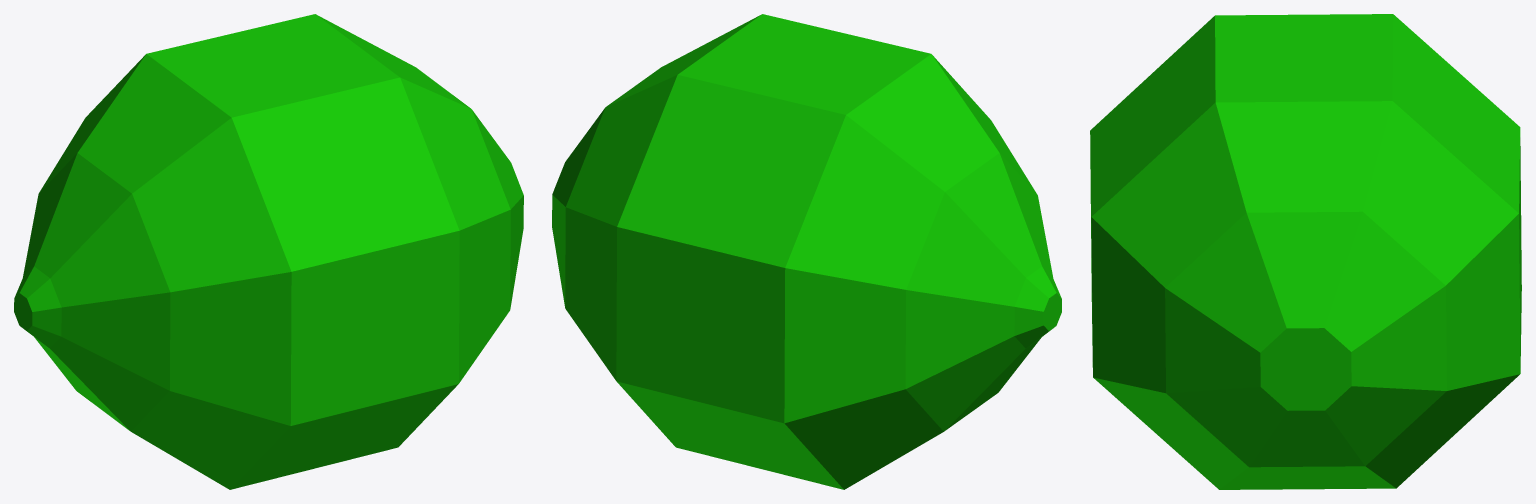
File: lime01.gltf
3 views of the same model, side by side, from view 1: azimuth 30°, elevation 25°; view 2: azimuth 150°, elevation 25°; view 3: azimuth 270°, elevation 25° (orthographic). The views are drawn at different scales.
Visible parts, largest first — view 1: Cylinder.001; view 2: Cylinder.001; view 3: Cylinder.001.
Part boxes in pixels (left/top/right/bottom): Cylinder.001: left=14, top=14, right=523, bottom=489; Cylinder.001: left=552, top=14, right=1061, bottom=489; Cylinder.001: left=1090, top=14, right=1521, bottom=489.
Size of the model in its own units: 0.0476 by 0.0356 by 0.0356.
Materials: 1 (1 with a texture image).
